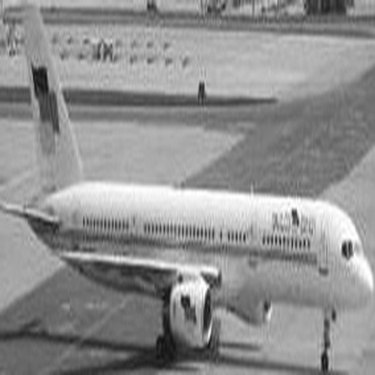airplane: (10, 6, 370, 372)
